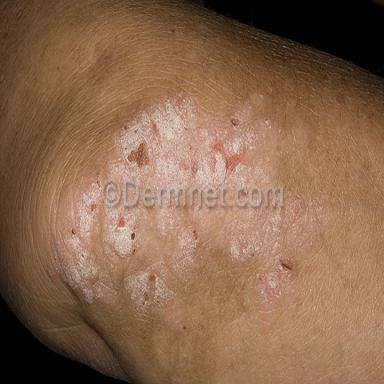Psoriasis: (54, 87, 316, 315)
